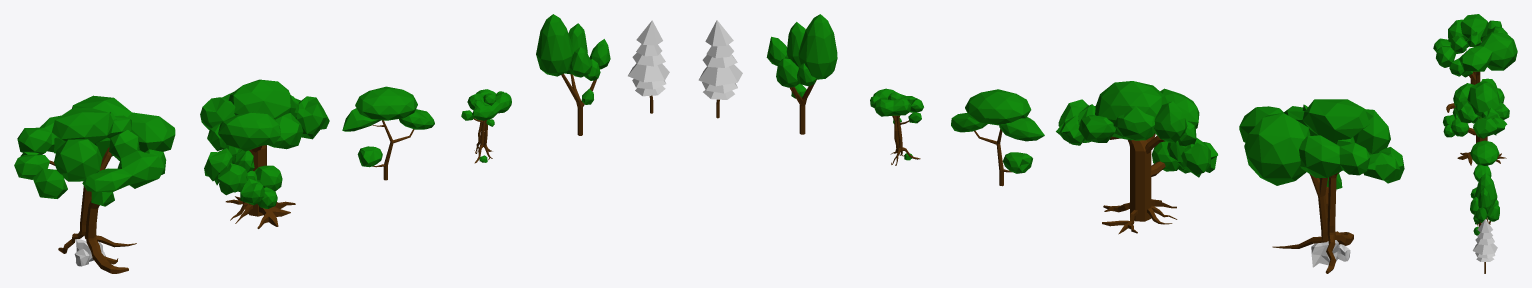
The model's file is forest.fbx.
3 renders of one model, left to right at view 1: azimuth 30°, elevation 25°; view 2: azimuth 150°, elevation 25°; view 3: azimuth 270°, elevation 25°, orthographic. The views are drawn at different scales.
Parts seen in each view (by area): view 1: derevo_5, derevo_3, derevo_4, derevo_2, el, derevo; view 2: derevo_5, derevo_3, derevo_4, derevo_2, el, derevo; view 3: derevo_5, derevo_3, derevo_4, derevo_2, el, derevo.
Part boxes in pixels (x1,y1,x2,y2): derevo_5: (14, 95, 175, 273); derevo_3: (200, 79, 329, 228); derevo_4: (536, 14, 610, 135); derevo_2: (342, 86, 434, 180); el: (628, 20, 669, 113); derevo: (461, 89, 511, 163); derevo_5: (1239, 99, 1404, 273); derevo_3: (1056, 81, 1217, 234); derevo_4: (766, 14, 837, 134); derevo_2: (951, 89, 1044, 186); el: (698, 20, 742, 118); derevo: (870, 88, 923, 165); derevo_5: (1433, 14, 1517, 112); derevo_3: (1443, 78, 1509, 165); derevo_4: (1470, 173, 1499, 235); derevo_2: (1470, 140, 1499, 181); el: (1473, 219, 1497, 273); derevo: (1470, 187, 1490, 225).
Bounding box in the file's own units: 8756 × 1929 × 1647.
